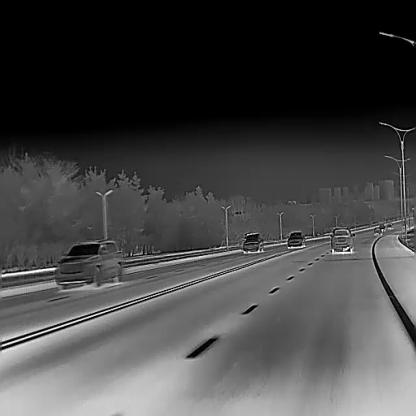car: (54, 238, 122, 288), (329, 228, 355, 252), (242, 233, 263, 252), (286, 232, 306, 247), (374, 227, 379, 233), (387, 221, 392, 227), (380, 223, 384, 228)
